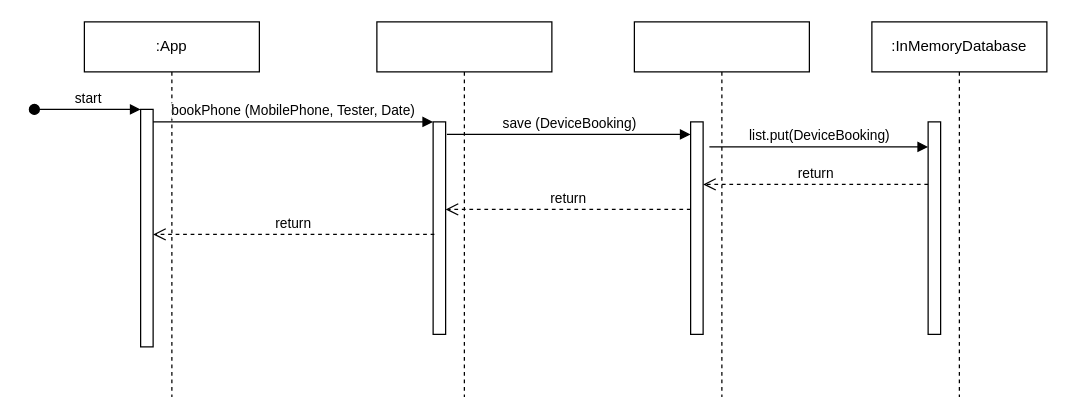
This 1069x419 diagram has some shape labels left out. Each missing label, with the box of its shape:
:DeviceBookingController: (376, 21, 552, 397)
:DeviceBookingDAO: (633, 21, 809, 397)
